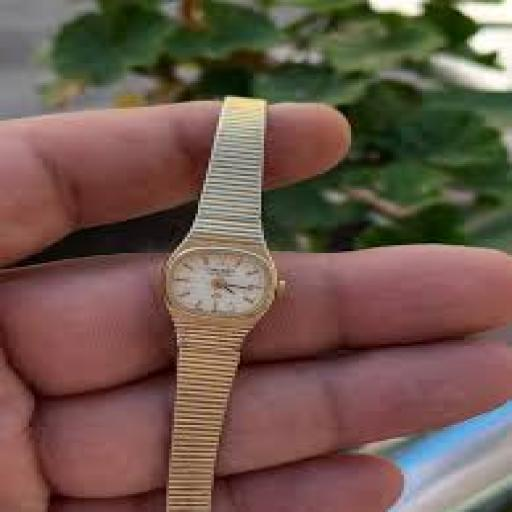KolSaati: (148, 75, 272, 512)
